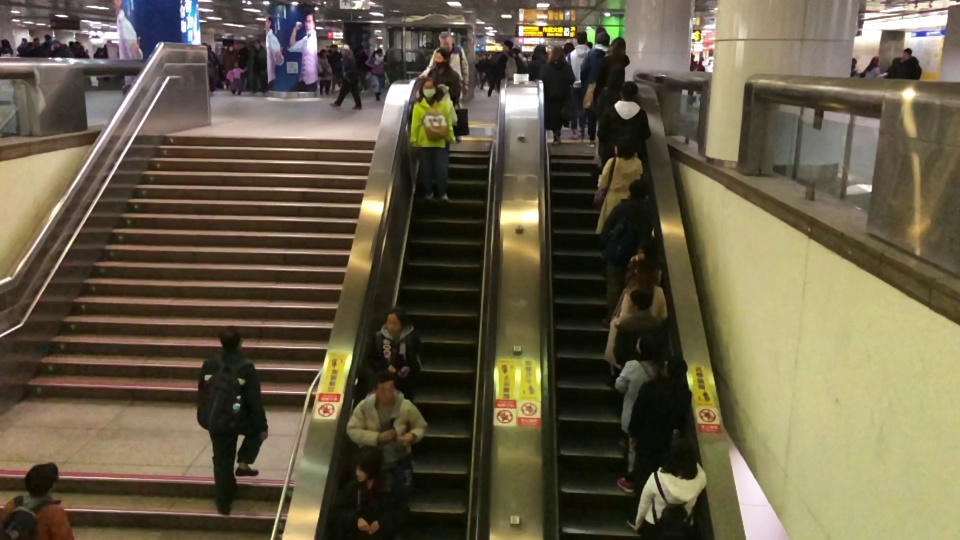person_head: (23, 461, 59, 498), (351, 445, 384, 483), (664, 437, 696, 474), (372, 371, 396, 405), (626, 289, 653, 316), (665, 355, 688, 383), (218, 326, 243, 351), (385, 306, 406, 335), (612, 134, 635, 159), (635, 334, 657, 359), (635, 264, 655, 285), (628, 178, 648, 199), (618, 81, 639, 101), (637, 239, 656, 261), (547, 44, 566, 65), (607, 63, 625, 84), (420, 76, 437, 98), (433, 48, 450, 68), (438, 31, 453, 53), (609, 36, 626, 53), (531, 44, 547, 60), (595, 31, 609, 47), (576, 30, 587, 46), (563, 42, 574, 55), (502, 40, 513, 52), (901, 47, 912, 59), (340, 44, 350, 56), (0, 38, 11, 48), (870, 55, 880, 65), (253, 39, 261, 50), (375, 47, 383, 58), (318, 49, 327, 58), (329, 44, 338, 53), (43, 33, 51, 41), (73, 41, 81, 49), (239, 40, 246, 49), (512, 47, 519, 56), (491, 53, 498, 62), (32, 37, 40, 44), (54, 40, 61, 48), (227, 44, 234, 52), (357, 45, 364, 53), (20, 37, 27, 44), (484, 53, 491, 60), (698, 56, 704, 64), (851, 58, 857, 66), (233, 61, 239, 68), (96, 47, 102, 53), (690, 52, 694, 61), (207, 44, 212, 51), (708, 50, 713, 57), (223, 44, 228, 50), (103, 44, 107, 50)
person_vbox: (196, 326, 269, 517), (625, 355, 692, 531), (596, 178, 663, 329), (345, 371, 427, 490), (614, 333, 668, 493), (635, 437, 707, 540), (332, 444, 410, 539), (409, 76, 456, 203), (417, 31, 470, 143), (0, 461, 75, 540), (365, 306, 424, 403), (415, 48, 461, 154), (595, 134, 643, 235), (596, 81, 651, 167), (612, 289, 668, 370), (535, 44, 575, 146), (580, 31, 613, 148), (616, 264, 668, 321), (595, 63, 625, 161), (565, 30, 591, 136), (591, 36, 630, 102), (329, 43, 362, 110), (624, 239, 662, 285), (494, 40, 527, 80), (245, 39, 266, 94), (888, 47, 922, 79), (364, 47, 384, 101), (353, 45, 371, 92), (527, 44, 548, 81), (327, 44, 342, 94), (223, 44, 239, 90), (317, 49, 332, 96), (230, 61, 247, 95), (864, 54, 887, 78), (207, 44, 218, 92), (486, 53, 498, 97), (239, 40, 249, 91), (26, 37, 50, 57), (479, 53, 491, 90), (687, 52, 697, 96), (219, 44, 228, 89), (512, 47, 526, 74), (51, 40, 73, 57), (69, 41, 89, 58), (696, 56, 705, 93), (93, 47, 102, 80), (0, 38, 13, 57), (16, 37, 28, 57), (703, 50, 713, 73), (102, 44, 108, 81), (42, 33, 54, 48), (850, 58, 858, 77)
